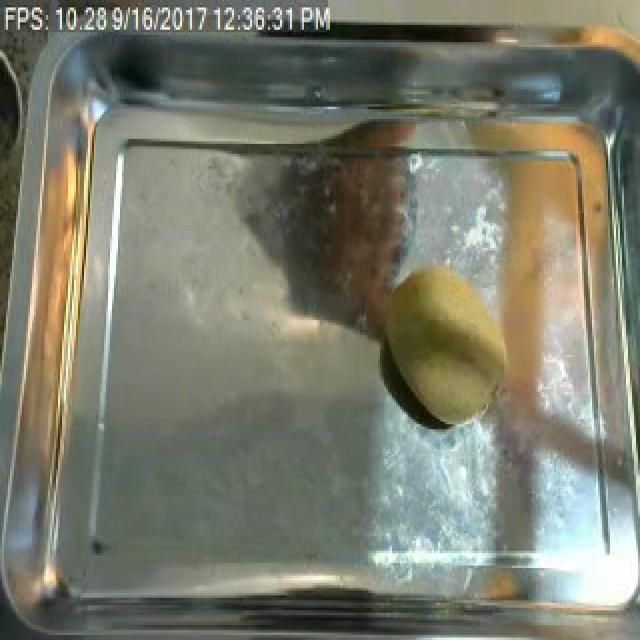Fruit: (372, 256, 508, 437)
